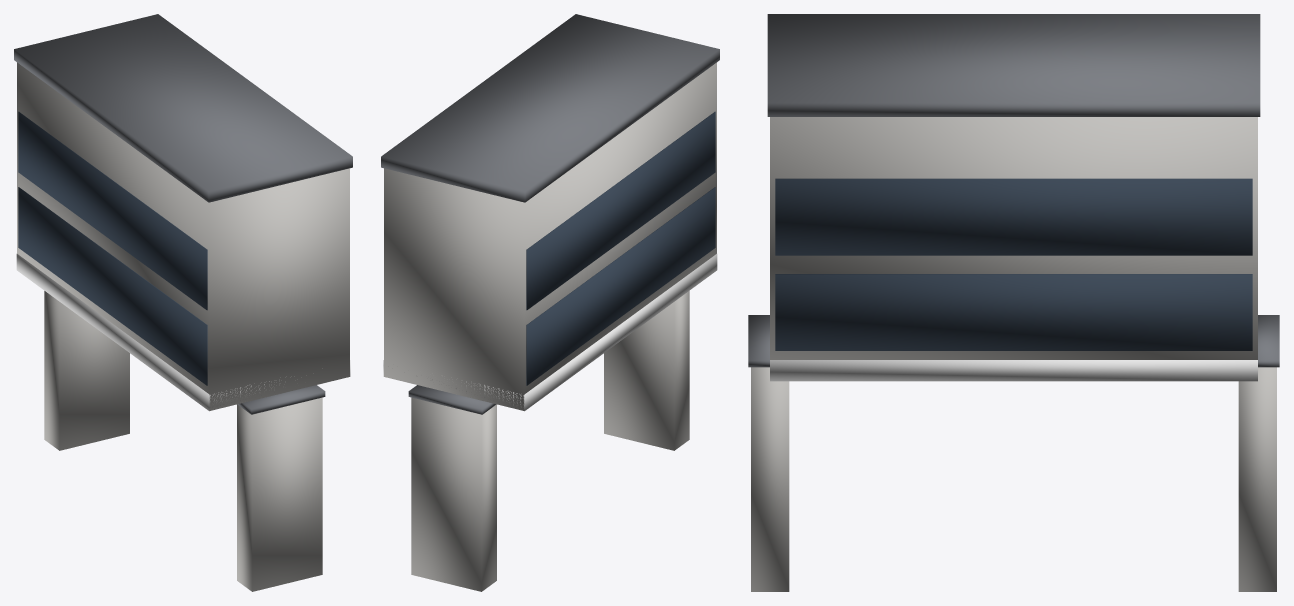
Rendered from span_building.glb.
The picture shows the model from 3 angles, left to right: view 1: azimuth 30°, elevation 25°; view 2: azimuth 150°, elevation 25°; view 3: azimuth 270°, elevation 25°; orthographic projection. The views are drawn at different scales.
Parts seen in each view (by area): view 1: span_building; view 2: span_building; view 3: span_building.
Boxes of the visible parts, <box> form: span_building: <box>14,14,352,591</box>; span_building: <box>381,14,719,591</box>; span_building: <box>748,14,1279,591</box>.
Bounding box in the file's own units: 8.2 × 22 × 20.7.
